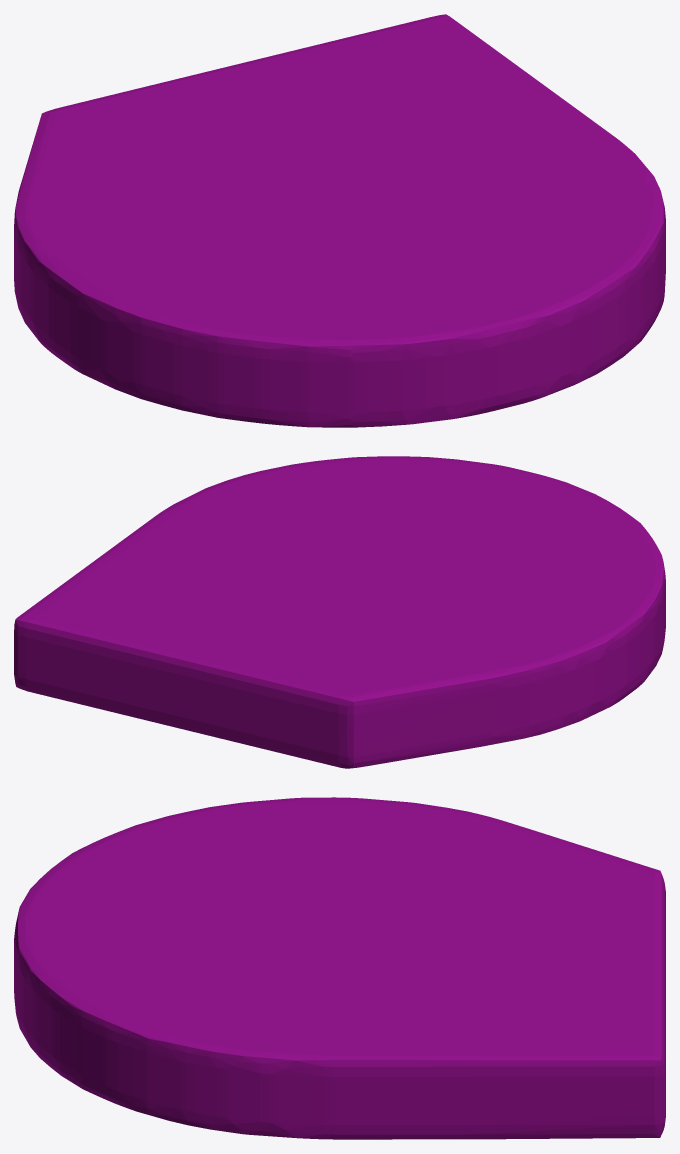
File: left_hip_pitch_link_part_14.obj
3 renders of one model, top to bottom at view 1: azimuth 30°, elevation 25°; view 2: azimuth 150°, elevation 25°; view 3: azimuth 270°, elevation 25°, orthographic. The views are drawn at different scales.
Bounding box in the file's own units: 0.1242 × 0.0179 × 0.129.
